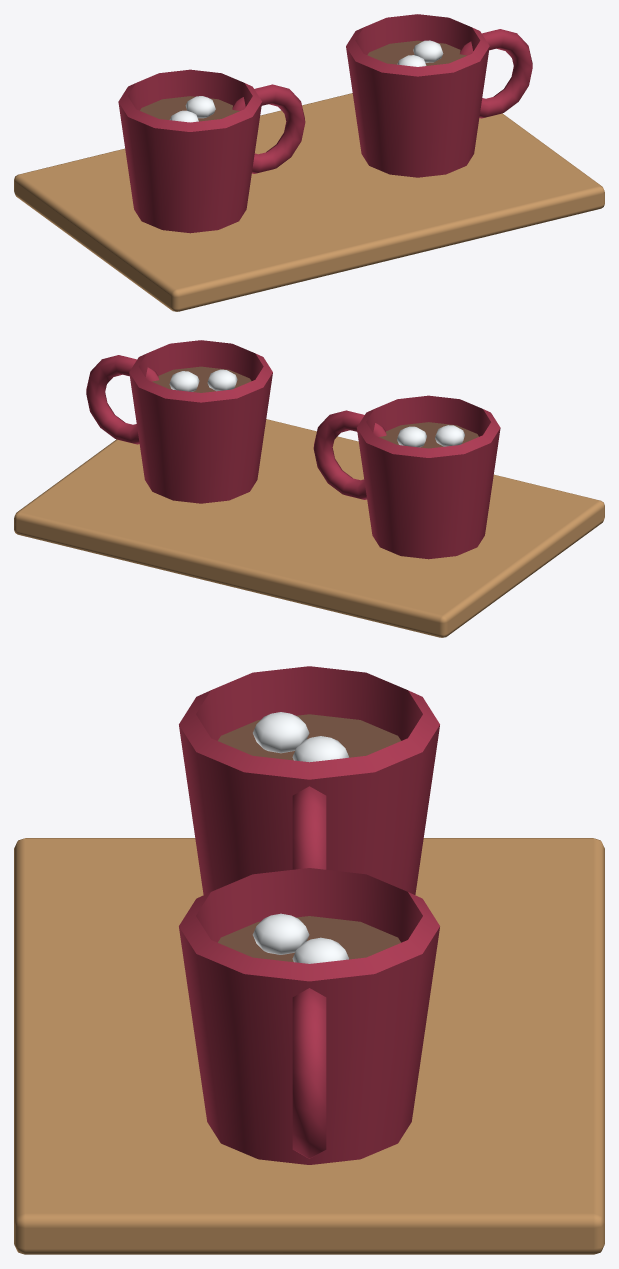
File: alpine-snow-village-marshmallow-cocoa-tray-fd827eba__19837.glb
3 renders of one model, top to bottom at view 1: azimuth 30°, elevation 25°; view 2: azimuth 150°, elevation 25°; view 3: azimuth 270°, elevation 25°, orthographic. The views are drawn at different scales.
Parts seen in each view (by area): view 1: marshmallow-cocoa-tray-oak, marshmallow-cocoa-tray-berry, marshmallow-cocoa-tray-wood, marshmallow-cocoa-tray-snow; view 2: marshmallow-cocoa-tray-oak, marshmallow-cocoa-tray-berry, marshmallow-cocoa-tray-snow, marshmallow-cocoa-tray-wood; view 3: marshmallow-cocoa-tray-oak, marshmallow-cocoa-tray-berry, marshmallow-cocoa-tray-wood, marshmallow-cocoa-tray-snow.
Part boxes in pixels (x1,y1,x2,y2): marshmallow-cocoa-tray-oak: (14,93,604,311); marshmallow-cocoa-tray-berry: (118,14,532,233); marshmallow-cocoa-tray-wood: (140,40,466,121); marshmallow-cocoa-tray-snow: (170,40,443,122); marshmallow-cocoa-tray-oak: (14,419,604,637); marshmallow-cocoa-tray-berry: (86,340,500,559); marshmallow-cocoa-tray-snow: (169,369,464,447); marshmallow-cocoa-tray-wood: (152,366,478,448); marshmallow-cocoa-tray-oak: (14,838,604,1254); marshmallow-cocoa-tray-berry: (179,666,439,1164); marshmallow-cocoa-tray-wood: (218,714,400,962); marshmallow-cocoa-tray-snow: (252,712,348,963).
Size of the model in its own units: 0.812 by 0.24 by 0.52.
